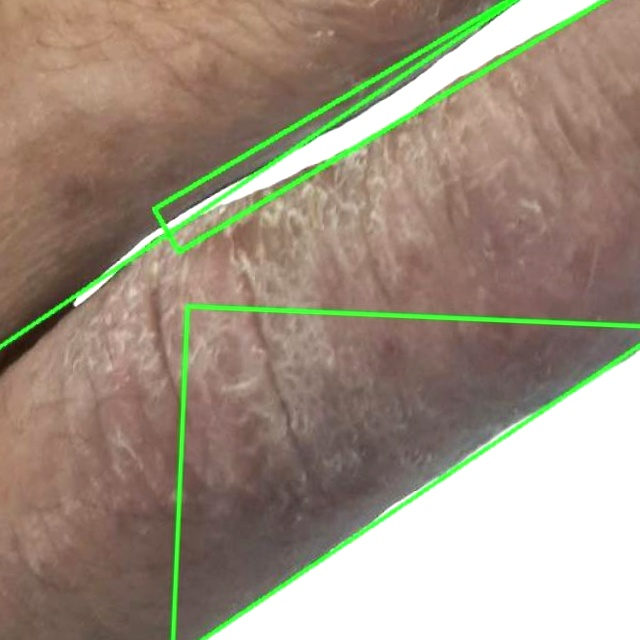Contact Dermatitis: (0, 0, 639, 639), (172, 306, 639, 639), (154, 0, 605, 252)
